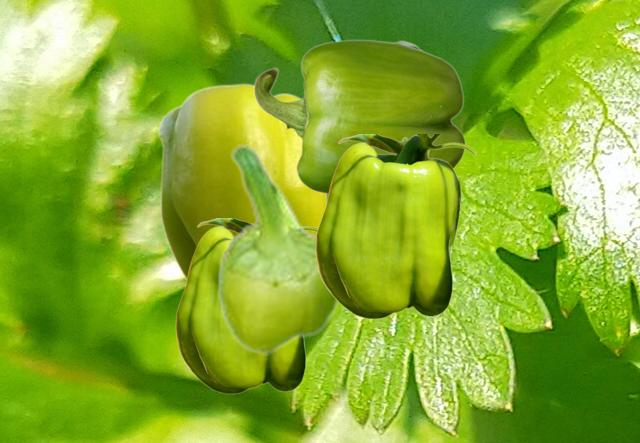bell_pepper: (157, 82, 326, 280), (253, 39, 465, 194), (315, 134, 475, 318), (216, 144, 342, 354), (175, 218, 316, 393)
